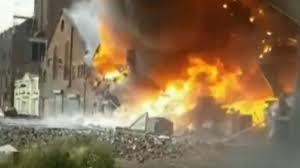fire: (122, 54, 277, 128), (89, 27, 131, 82)
